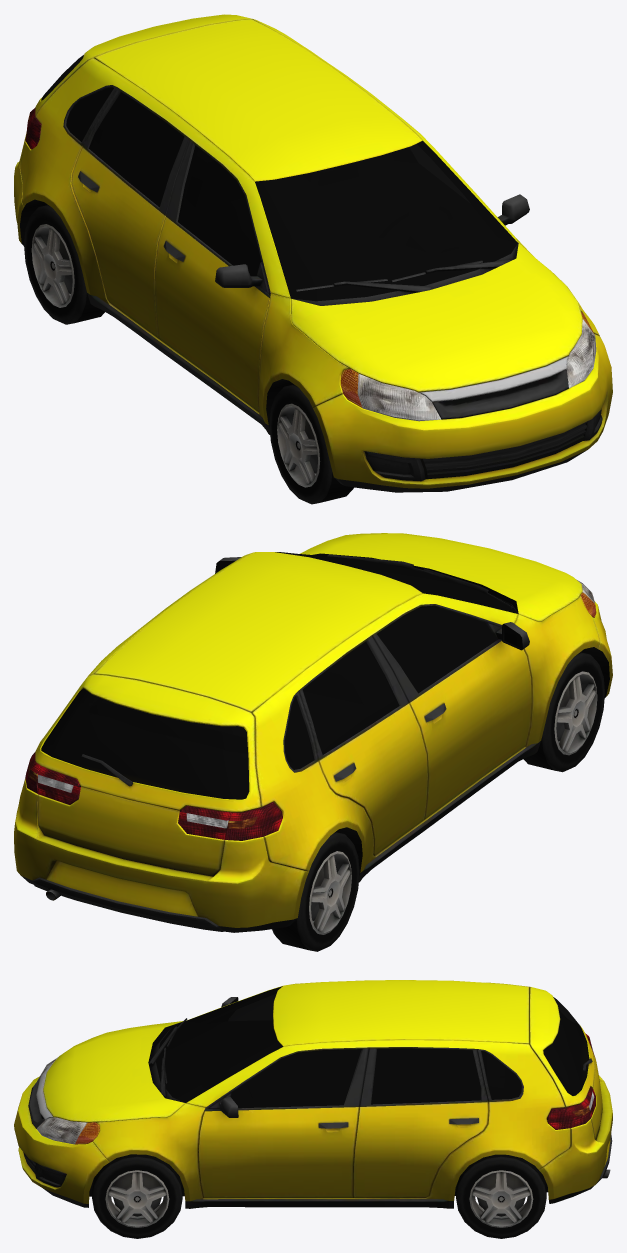
File: hatchback.glb
3 renders of one model, top to bottom at view 1: azimuth 30°, elevation 25°; view 2: azimuth 150°, elevation 25°; view 3: azimuth 270°, elevation 25°, orthographic. The views are drawn at different scales.
Parts seen in each view (by area): view 1: body, wheel_fr, wheel_rr; view 2: body, wheel_rr, wheel_fr; view 3: body, wheel_fl, wheel_rl.
Boxes of the visible parts, x1,y1,x2,y2 form: body: [14, 14, 612, 492]; wheel_fr: [269, 384, 354, 504]; wheel_rr: [24, 205, 104, 324]; body: [14, 533, 612, 932]; wheel_rr: [272, 832, 359, 951]; wheel_fr: [523, 652, 604, 772]; body: [14, 980, 612, 1208]; wheel_fl: [92, 1154, 182, 1238]; wheel_rl: [456, 1154, 546, 1238].
Size of the model in its own units: 1.8 by 1.4 by 4.1.
4 materials, 3 textured.
